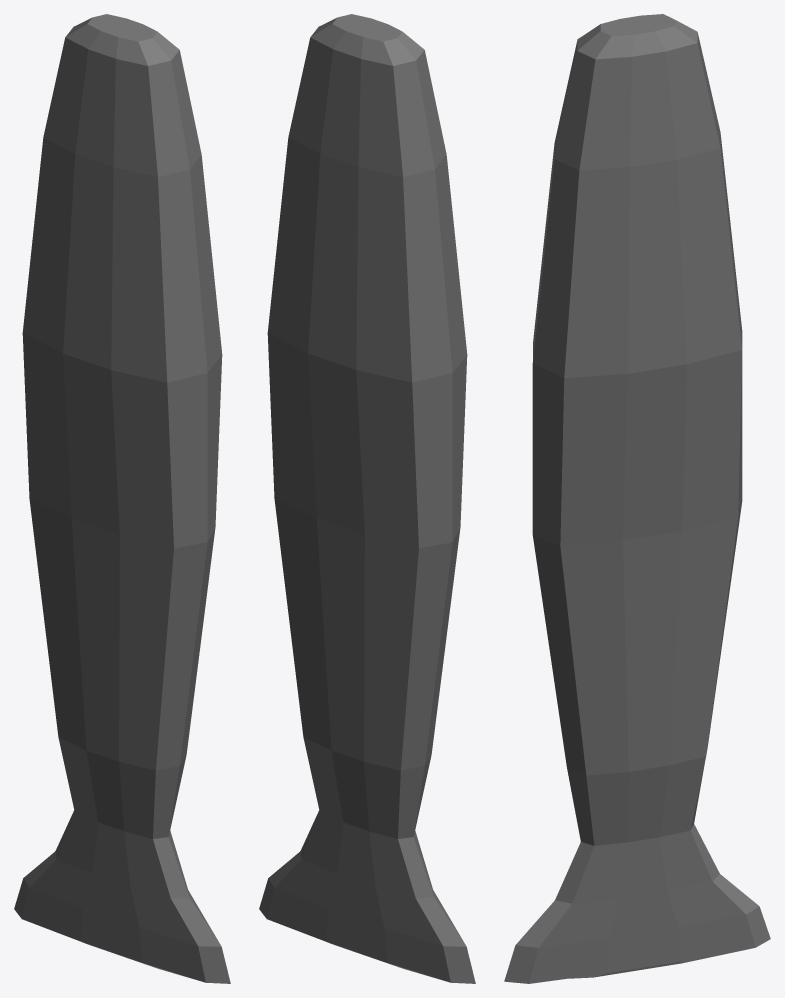
Rendered from Fish.fbx.
3 views of the same model, side by side, from view 1: azimuth 30°, elevation 25°; view 2: azimuth 210°, elevation 25°; view 3: azimuth 270°, elevation 25° (orthographic).
Visible parts, largest first — view 1: Cube.010; view 2: Cube.010; view 3: Cube.010.
Part boxes in pixels (x1=…): Cube.010: x1=14, y1=14, x2=230, y2=983; Cube.010: x1=259, y1=14, x2=475, y2=983; Cube.010: x1=504, y1=14, x2=770, y2=983.
Size of the model in its own units: 13.17 by 91.57 by 23.42.
